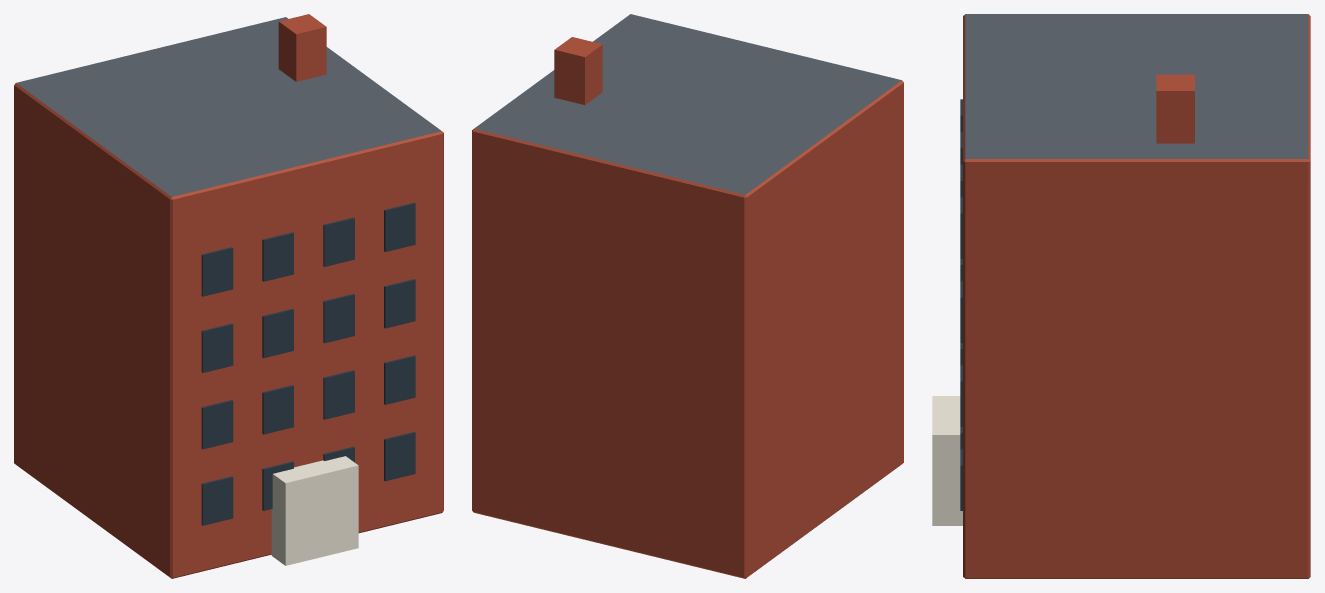
File: dorm.fbx
3 views of the same model, side by side, from view 1: azimuth 30°, elevation 25°; view 2: azimuth 150°, elevation 25°; view 3: azimuth 270°, elevation 25° (orthographic). The views are drawn at different scales.
Parts seen in each view (by area): view 1: dorm; view 2: dorm; view 3: dorm.
Boxes of the visible parts, box(x1,y1,x2,y2) form: dorm: box(14, 14, 443, 578); dorm: box(472, 14, 903, 578); dorm: box(932, 14, 1310, 578).
Size of the model in its own units: 9 by 13.5 by 9.8.
